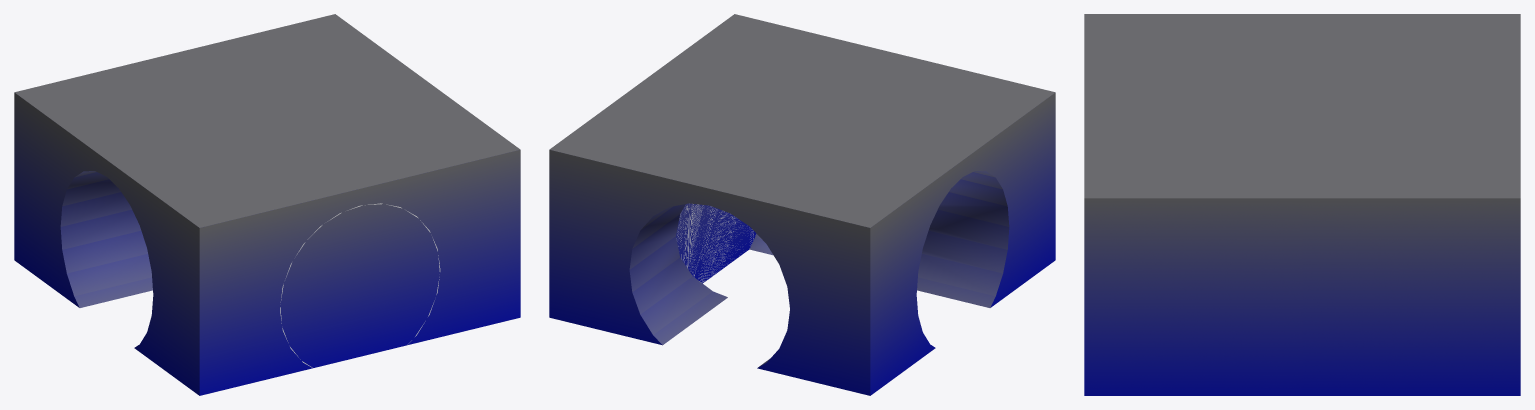
Rendered from SloppyTurn.dae.
3 views of the same model, side by side, from view 1: azimuth 30°, elevation 25°; view 2: azimuth 150°, elevation 25°; view 3: azimuth 270°, elevation 25° (orthographic). The views are drawn at different scales.
Parts seen in each view (by area): view 1: SketchUp (×3); view 2: SketchUp (×2); view 3: SketchUp (×2).
Part boxes in pixels (x1,y1,x2,y2): SketchUp (×3): (14, 14, 520, 395); SketchUp (×2): (549, 14, 1055, 395); SketchUp (×2): (1084, 14, 1520, 395).
Bounding box in the file's own units: 787 × 787 × 394.
